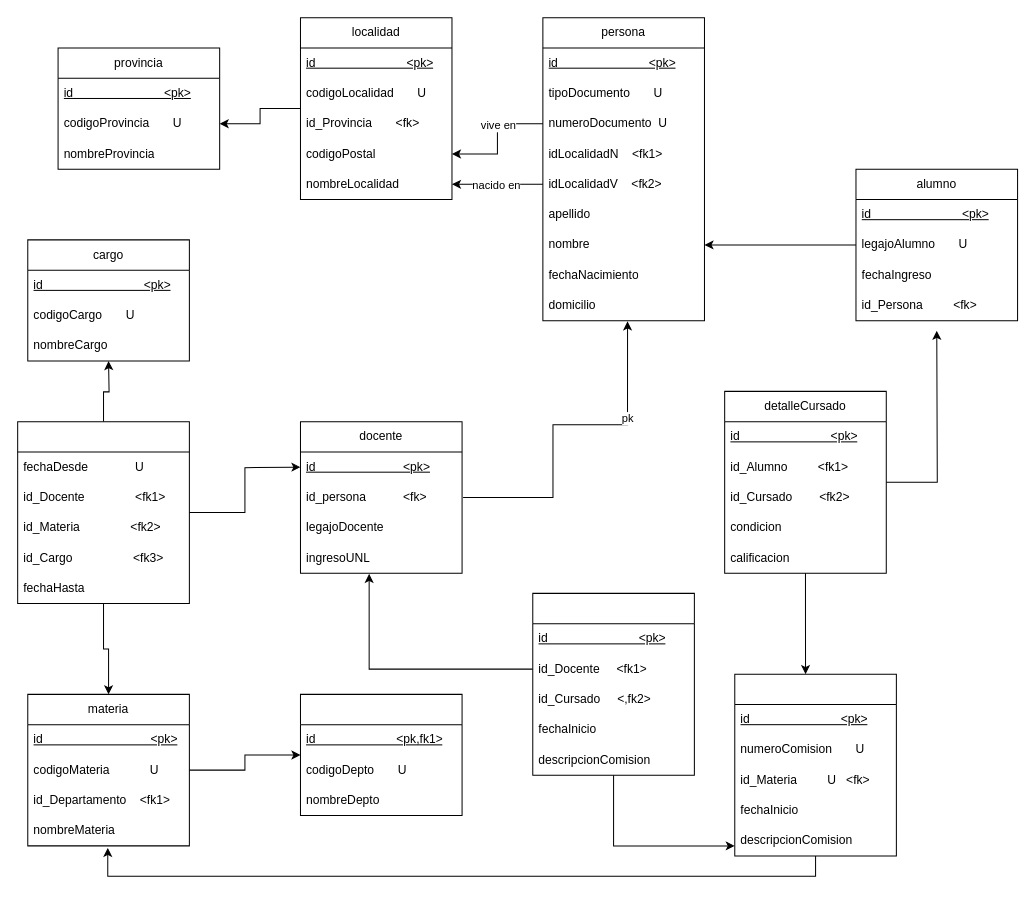
Some shapes in this 1035 by 902 pixel diagram are drawn without their labels. The shapes that lost their labels are listed below. From the top down, each one's box as (x1, y1, x2, y2) in pixels, then its label:
(17, 421, 189, 603): historialCargo
(532, 592, 694, 775): docenteCursado
(299, 693, 462, 816): departamento
(734, 673, 896, 856): cursado
